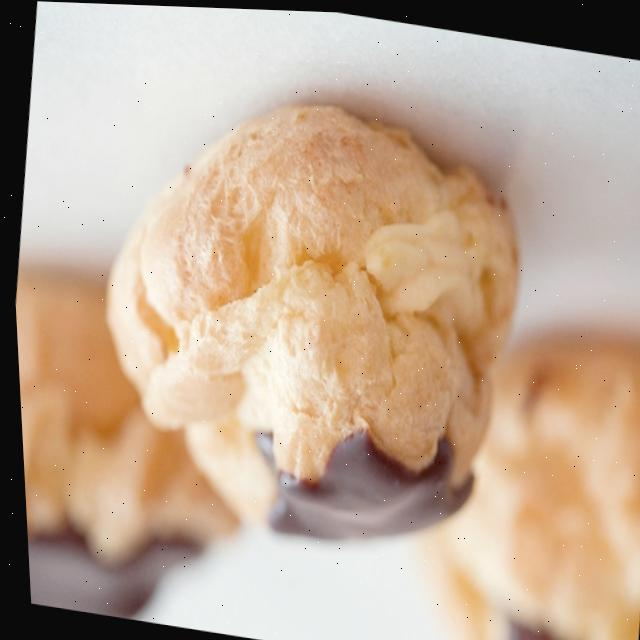炸货点心: (2, 56, 640, 640)
蛋糕甜品: (2, 56, 640, 640)
